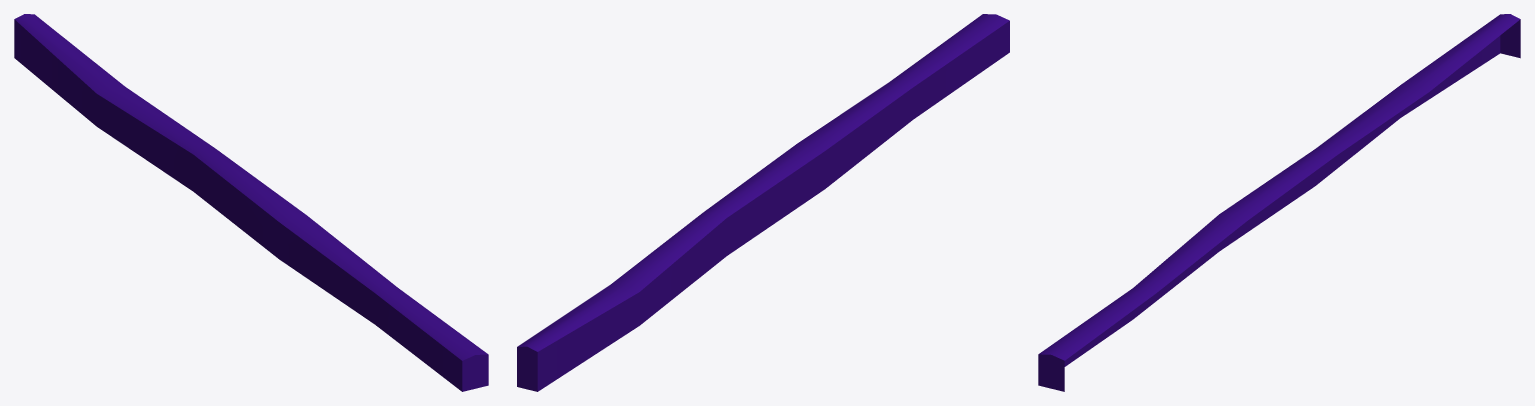
File: muro.FBX
The picture shows the model from 3 angles, left to right: view 1: azimuth 30°, elevation 25°; view 2: azimuth 150°, elevation 25°; view 3: azimuth 330°, elevation 25°; orthographic projection. The views are drawn at different scales.
Parts seen in each view (by area): view 1: Muro; view 2: Muro; view 3: Muro.
Part boxes in pixels (x1,y1,x2,y2): Muro: [14, 14, 488, 391]; Muro: [517, 14, 1009, 391]; Muro: [1038, 14, 1520, 391].
Bounding box in the file's own units: 29.76 × 41.4 × 818.
